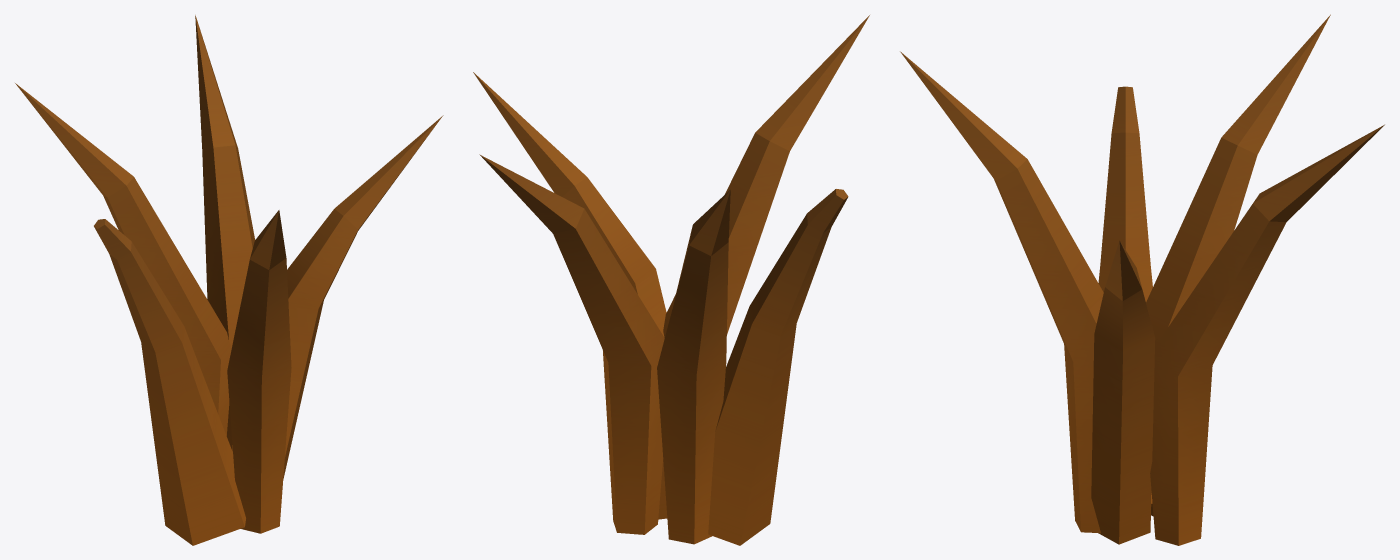
File: hierba10.fbx
3 renders of one model, left to right at view 1: azimuth 30°, elevation 25°; view 2: azimuth 150°, elevation 25°; view 3: azimuth 270°, elevation 25°, orthographic. The views are drawn at different scales.
Parts seen in each view (by area): view 1: hierba10; view 2: hierba10; view 3: hierba10.
Boxes of the visible parts, x1=… form: hierba10: x1=15, y1=15, x2=443, y2=545; hierba10: x1=473, y1=15, x2=869, y2=545; hierba10: x1=900, y1=14, x2=1384, y2=545.
Bounding box in the file's own units: 173 × 193 × 192.
